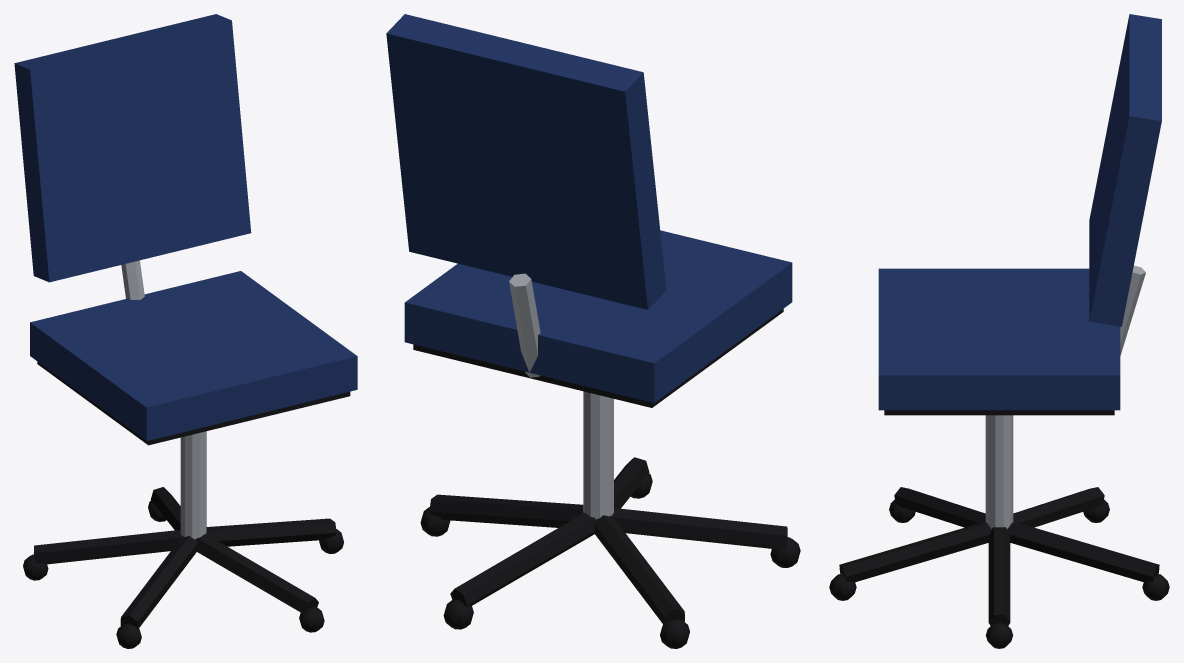
File: chair.obj
3 views of the same model, side by side, from view 1: azimuth 30°, elevation 25°; view 2: azimuth 150°, elevation 25°; view 3: azimuth 270°, elevation 25° (orthographic). The views are drawn at different scales.
Visible parts, largest first — view 1: chair; view 2: chair; view 3: chair.
Part boxes in pixels (x1,y1,x2,y2): chair: (14, 14, 357, 648); chair: (386, 14, 800, 648); chair: (829, 14, 1169, 648).
Bounding box in the file's own units: 0.5927 × 1.03 × 0.6206.
